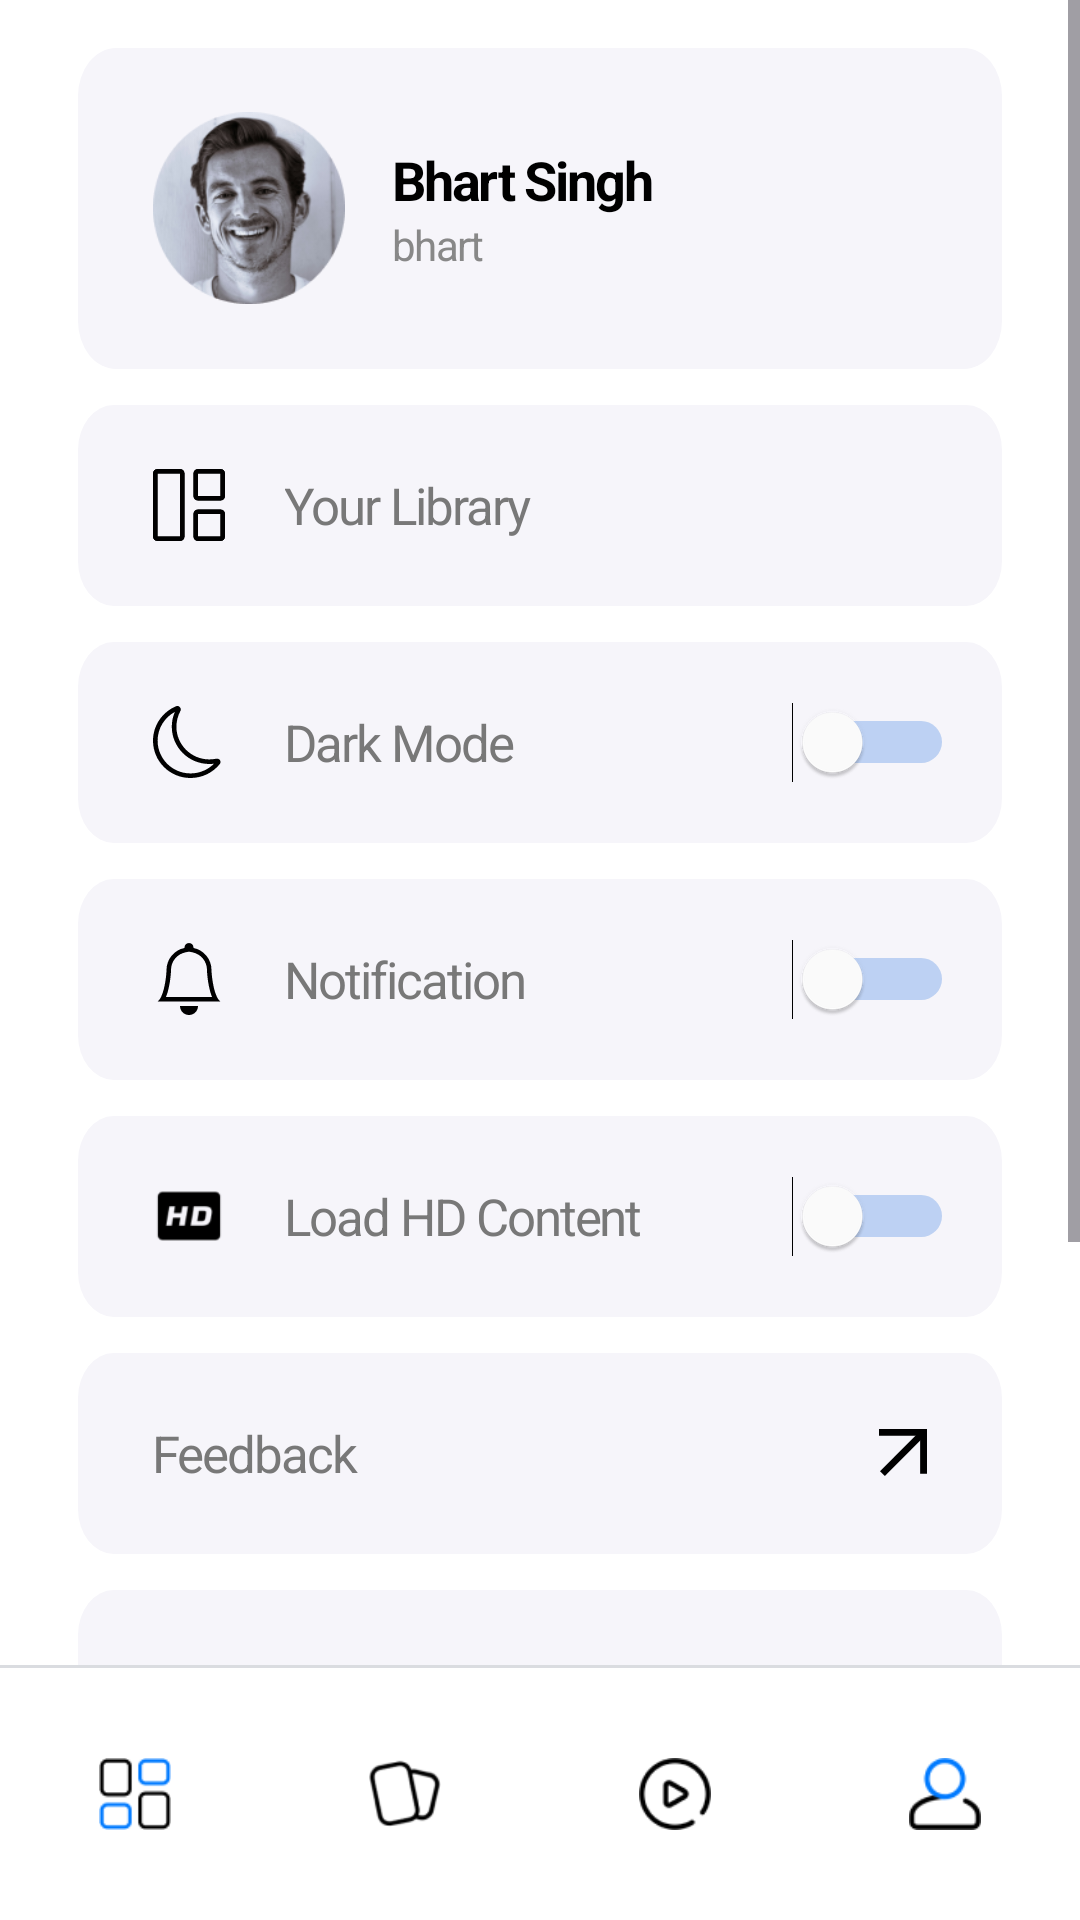

Where to tap for icons on this 1080*1920 app screen, as point (x, y):
bell: point (189, 979)
discover: point (135, 1794)
play: point (675, 1794)
profile: point (945, 1794)
